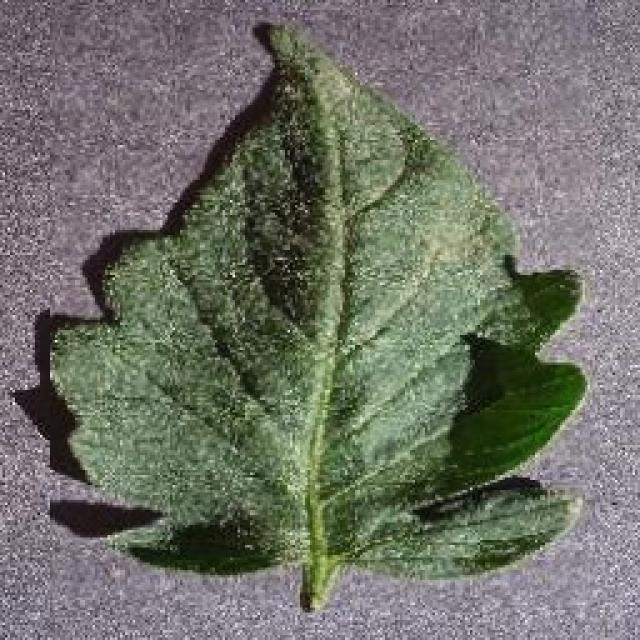Healthy: (50, 2, 598, 612)
